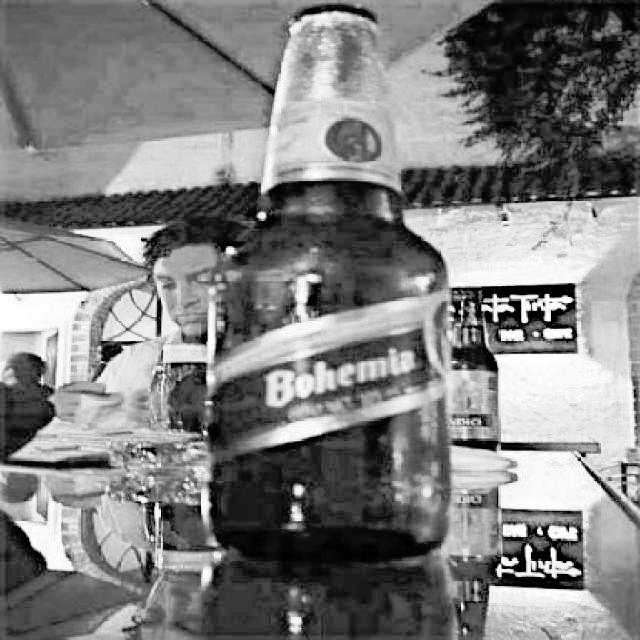Person: (40, 210, 253, 433)
